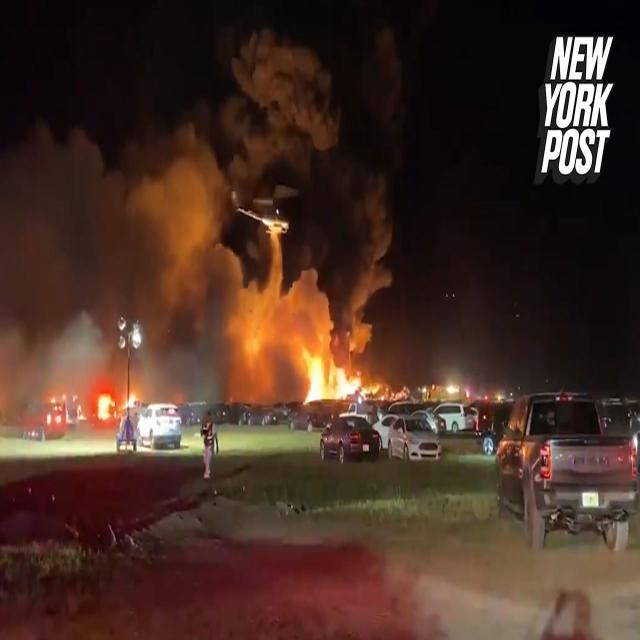Fire: (300, 348, 380, 400), (94, 390, 112, 420)
